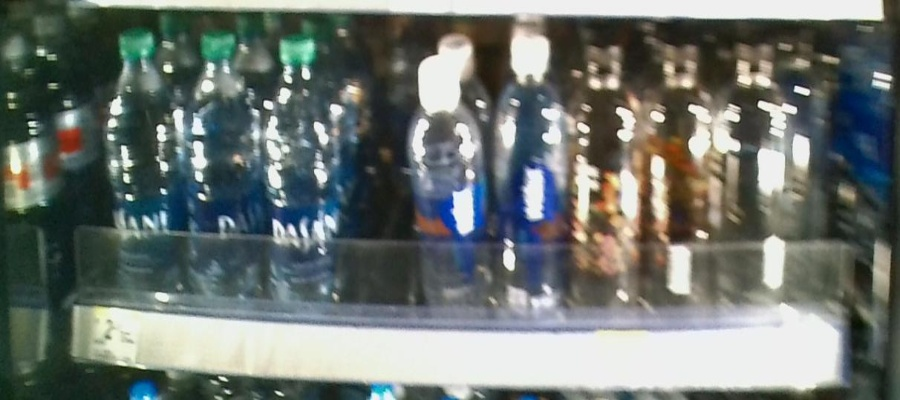bottle: (265, 34, 347, 330), (492, 33, 565, 363), (101, 30, 181, 327), (408, 45, 484, 343), (187, 26, 257, 324), (725, 35, 796, 322), (650, 34, 718, 329), (570, 37, 639, 325)
